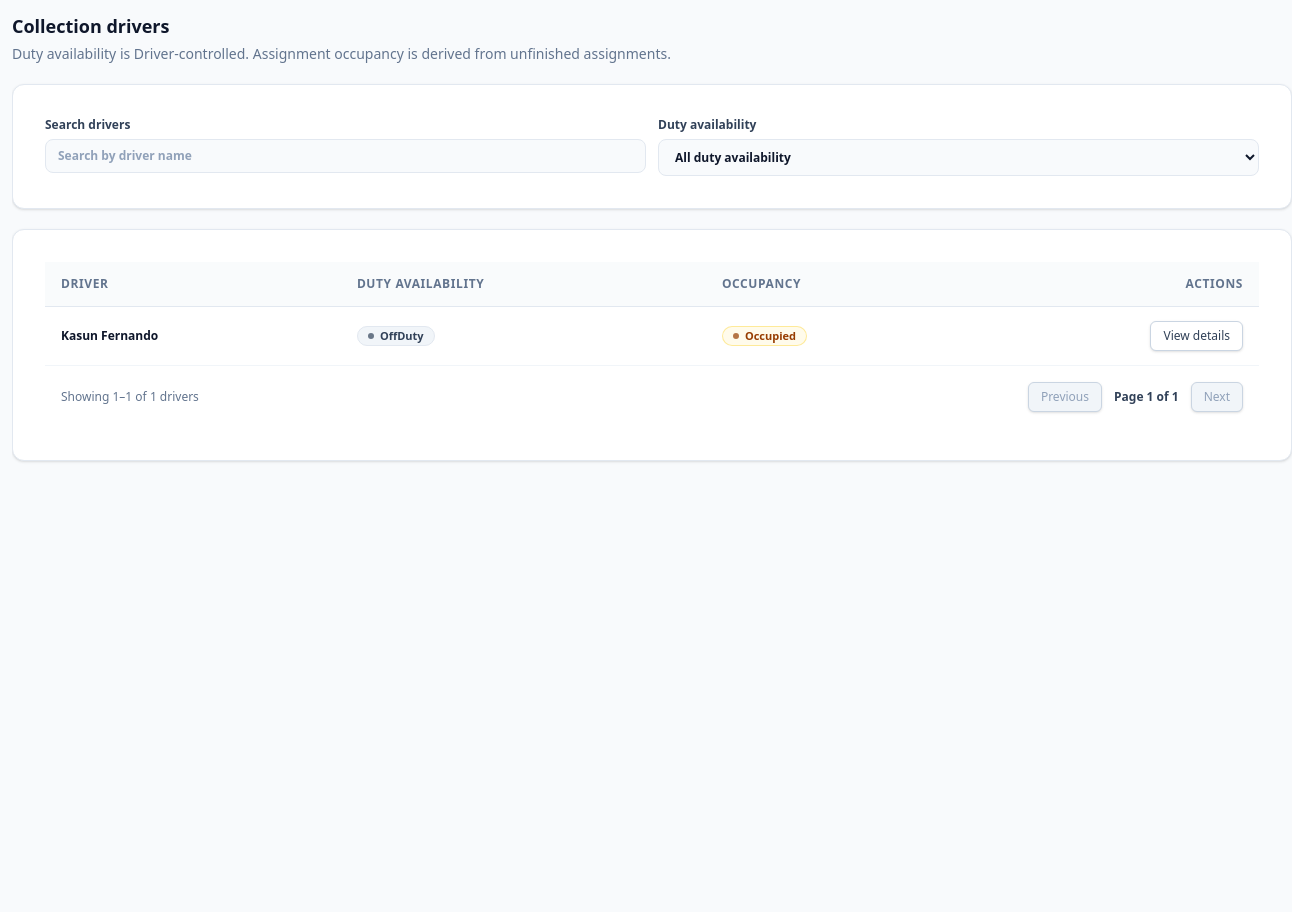
it: DriversSection › shows Driver-controlled availability and derived occupancy without profile administration
Expected: the text "Occupied" is shown, [722,326,807,346]
Click the button "View details": (1197, 336) [1150,321,1243,351]
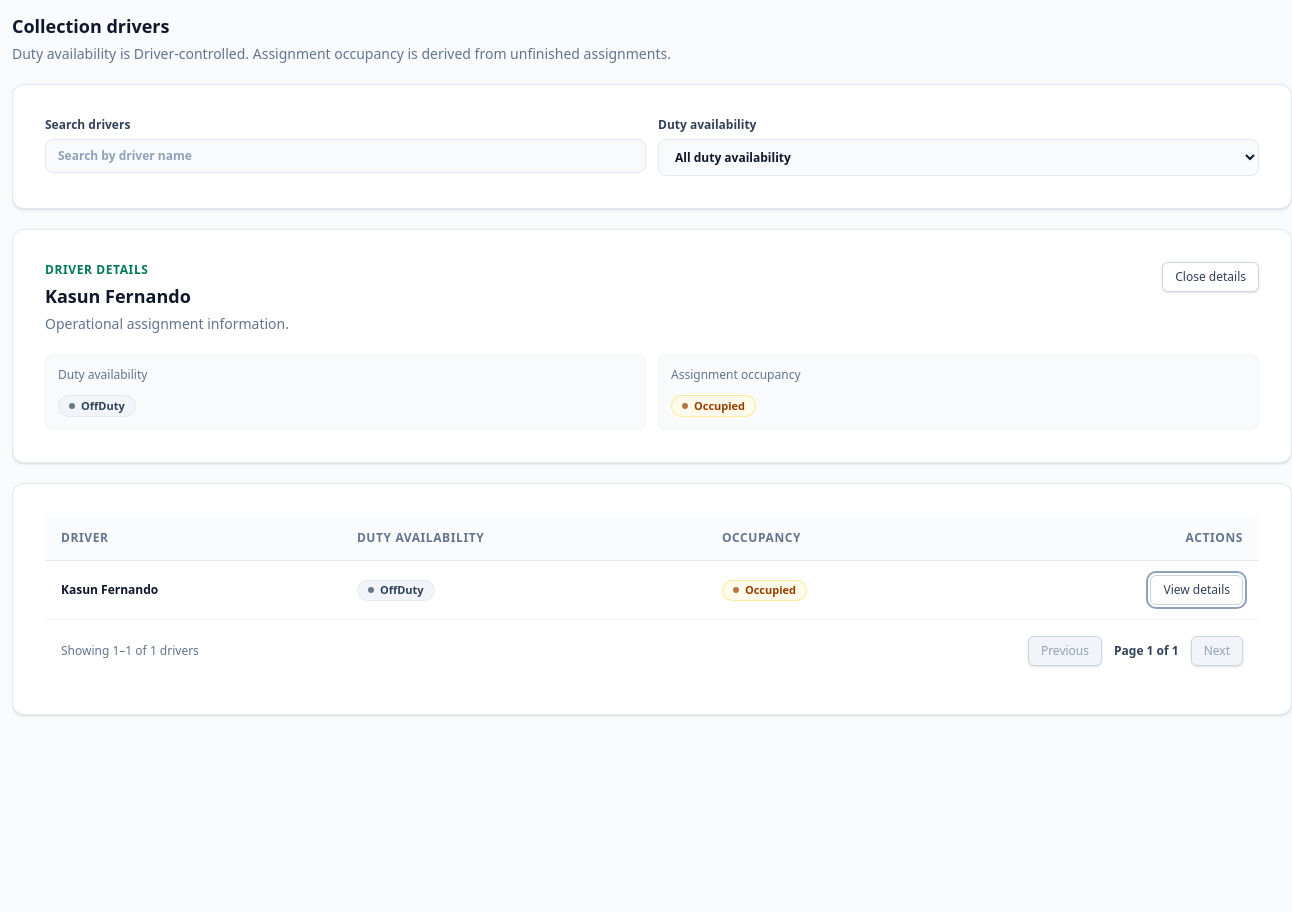
Now the text "Assignment occupancy" is shown, box [671,366,800,383]
